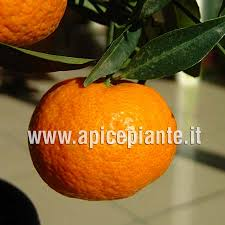orange: (31, 71, 182, 199)
